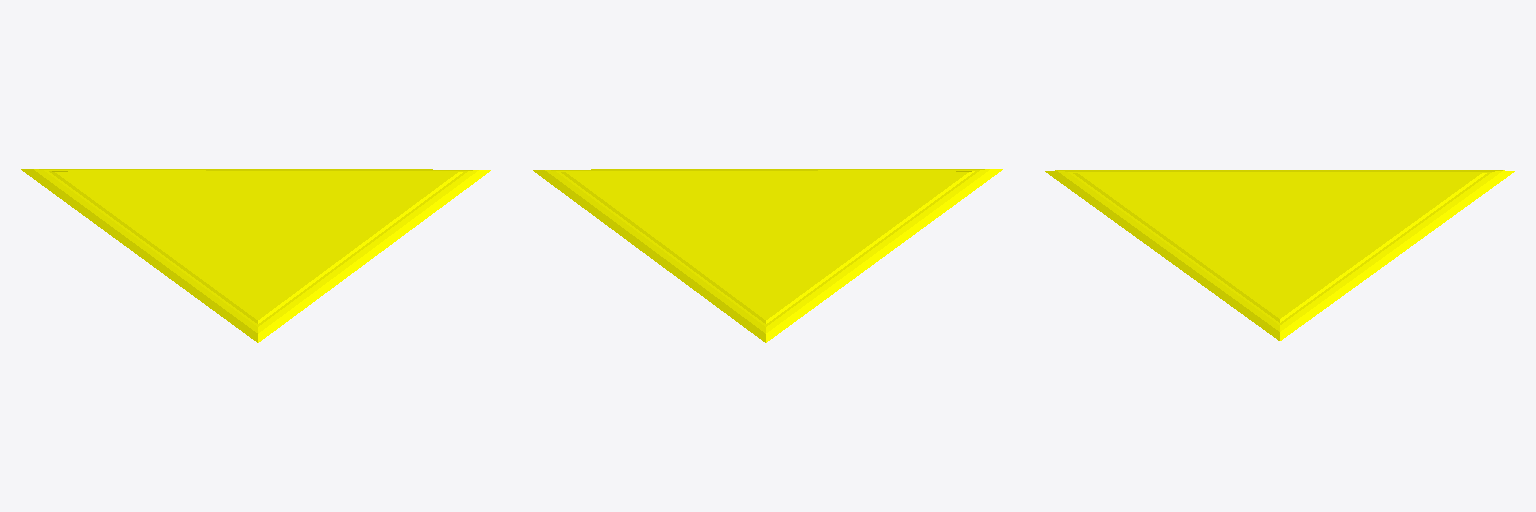
robot.urdf — triangle:
<?xml version="1.0"?>
<!-- created with Phobos 1.0.1 "Capricious Choutengan" -->
  <robot name="triangle">

    <link name="Untitled">
      <inertial>
        <origin xyz="0 0 0" rpy="0 0 0"/>
        <mass value="0.001"/>
        <inertia ixx="0.001" ixy="0" ixz="0" iyy="0.001" iyz="0" izz="0.001"/>
      </inertial>
      <visual name="Miniaturebase 20151107-25899-Phehsx-0">
        <origin xyz="0 0 0" rpy="0 0 0"/>
        <geometry>
          <mesh filename="triangle.stl" scale="0.01976 0.02 0.00333"/>
        </geometry>
        <material name="Material.002"/>
      </visual>
    </link>

    <material name="Material.002">
      <color rgba="1 1 0 1.0"/>
    </material>

  </robot>

--- What the picture shows (computed from the rendered views, not written in the file) ---
Views: 3 orthographic renders of the robot side by side, from view 1: azimuth 30°, elevation 25°; view 2: azimuth 150°, elevation 25°; view 3: azimuth 270°, elevation 25°.
Robot: triangle — 1 links, 0 joints (none); root link Untitled; default pose: all joints at 0.
Links seen in each view (by area): view 1: Untitled; view 2: Untitled; view 3: Untitled.
Link boxes in pixels (x1=…): Untitled: x1=21, y1=169, x2=490, y2=342; Untitled: x1=533, y1=169, x2=1002, y2=342; Untitled: x1=1045, y1=170, x2=1514, y2=340.
Size in the robot's own frame: 0.5928 by 0.6928 by 0.01 metres.
1 mesh visuals loaded from 1 distinct referenced files (1 binary STL).
